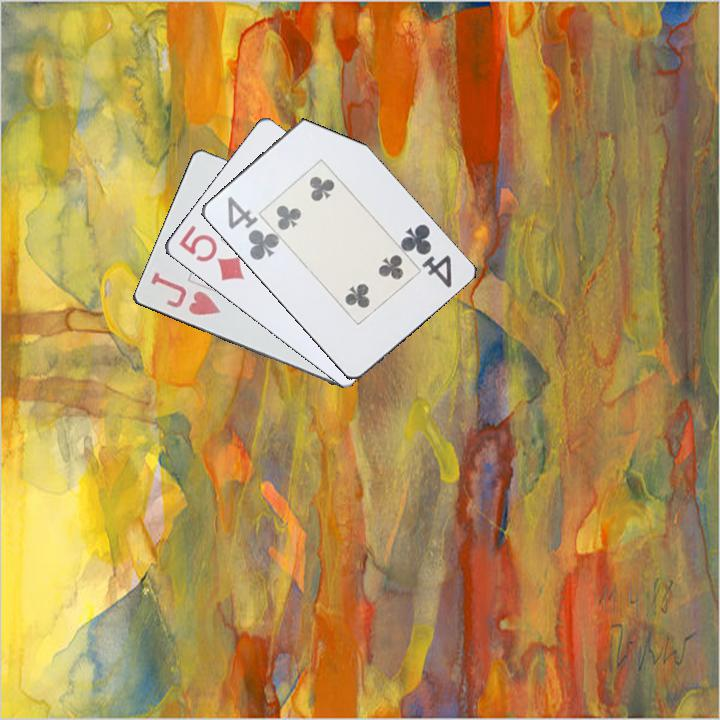4c: (223, 192, 281, 263), (397, 220, 455, 291)
5d: (175, 221, 247, 284)
Jh: (146, 269, 223, 319)
